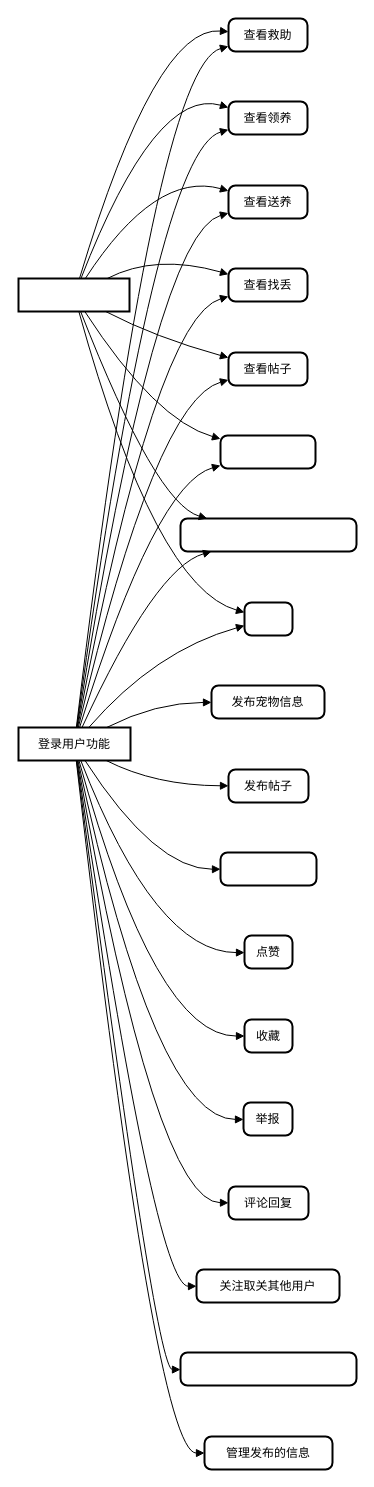
The diagram is 374 pixels wide and 1487 high, and some of its shapes have lost their labels. The box of each missing label's shape, as (x1, y1, x2, y2) in pixels:
发布宠物秀: (219, 851, 317, 886)
搜索: (243, 601, 293, 636)
普通游客功能: (17, 277, 130, 312)
查看修改个人主页信息: (179, 1351, 357, 1386)
查看宠物秀: (219, 434, 316, 469)
查看目标用户主页信息: (179, 517, 357, 552)
